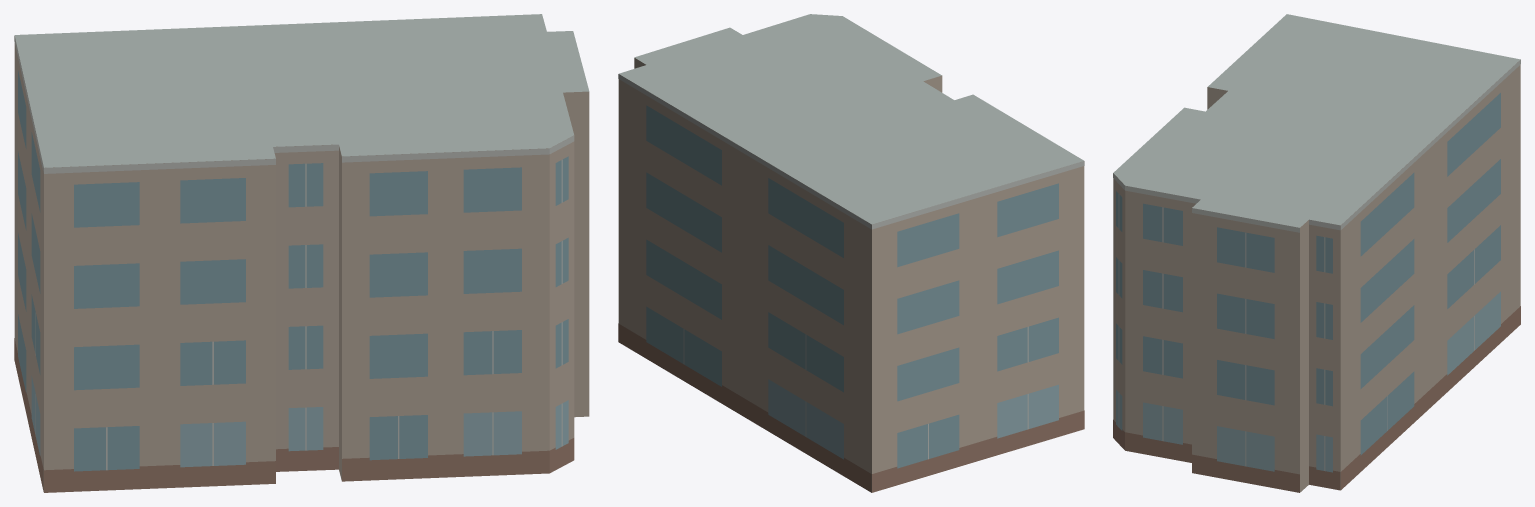
Rendered from survey-upis-32679602.glb.
3 renders of one model, left to right at view 1: azimuth 30°, elevation 25°; view 2: azimuth 150°, elevation 25°; view 3: azimuth 270°, elevation 25°, orthographic. The views are drawn at different scales.
Parts seen in each view (by area): view 1: survey-upis-32679602.tmp; view 2: survey-upis-32679602.tmp; view 3: survey-upis-32679602.tmp.
Boxes of the visible parts, <box> form: survey-upis-32679602.tmp: <box>14,14,589,492</box>; survey-upis-32679602.tmp: <box>618,14,1084,492</box>; survey-upis-32679602.tmp: <box>1113,14,1520,492</box>.
Size of the model in its own units: 22.32 by 12.9 by 17.98.
